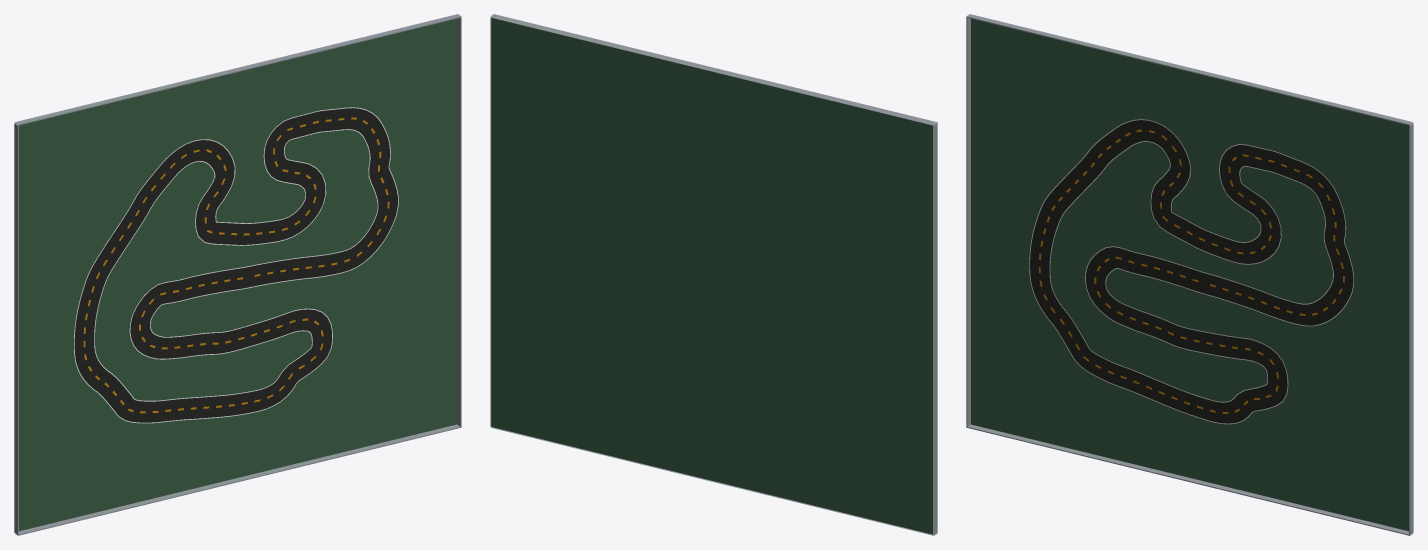
Rendered from track.obj.
3 views of the same model, side by side, from view 1: azimuth 30°, elevation 25°; view 2: azimuth 150°, elevation 25°; view 3: azimuth 330°, elevation 25° (orthographic).
Bounding box in the file's own units: 22.43 × 19.87 × 0.3.
5 materials, 5 textured.
